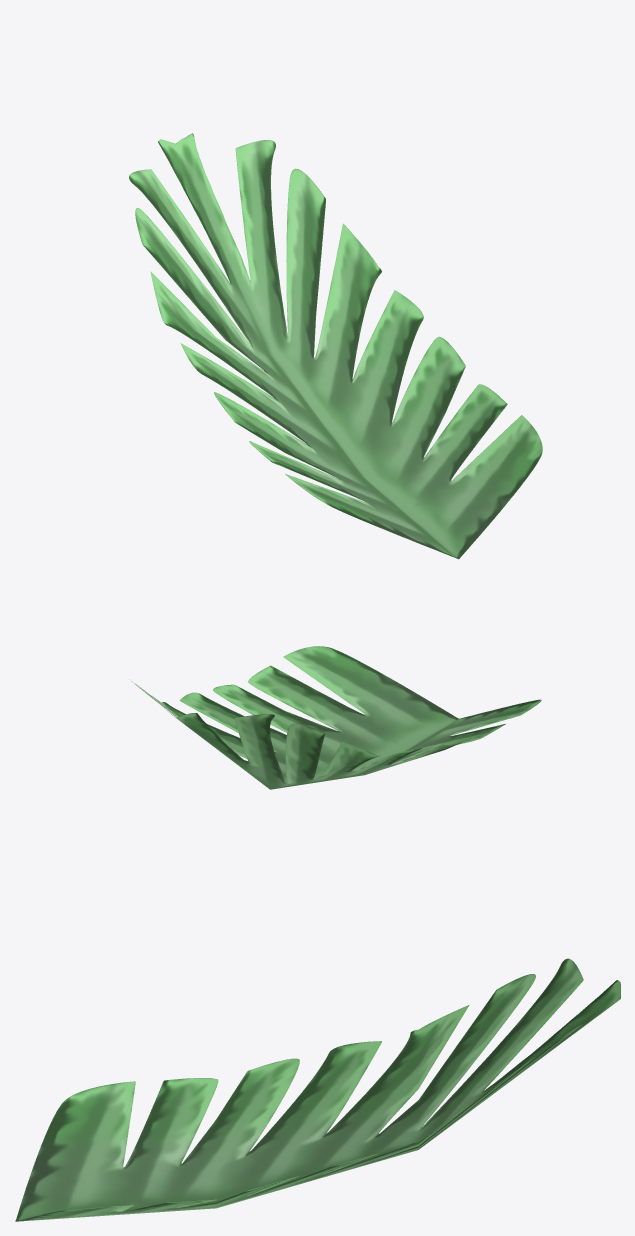
Rendered from Branch.fbx.
The picture shows the model from 3 angles, top to bottom: view 1: azimuth 30°, elevation 25°; view 2: azimuth 150°, elevation 25°; view 3: azimuth 270°, elevation 25°; orthographic projection. The views are drawn at different scales.
Parts seen in each view (by area): view 1: Branch; view 2: Branch; view 3: Branch.
Boxes of the visible parts, x1=… form: Branch: x1=129, y1=133, x2=542, y2=559; Branch: x1=129, y1=646, x2=541, y2=789; Branch: x1=15, y1=958, x2=620, y2=1221.
Bounding box in the file's own units: 1065 × 940 × 1619.
